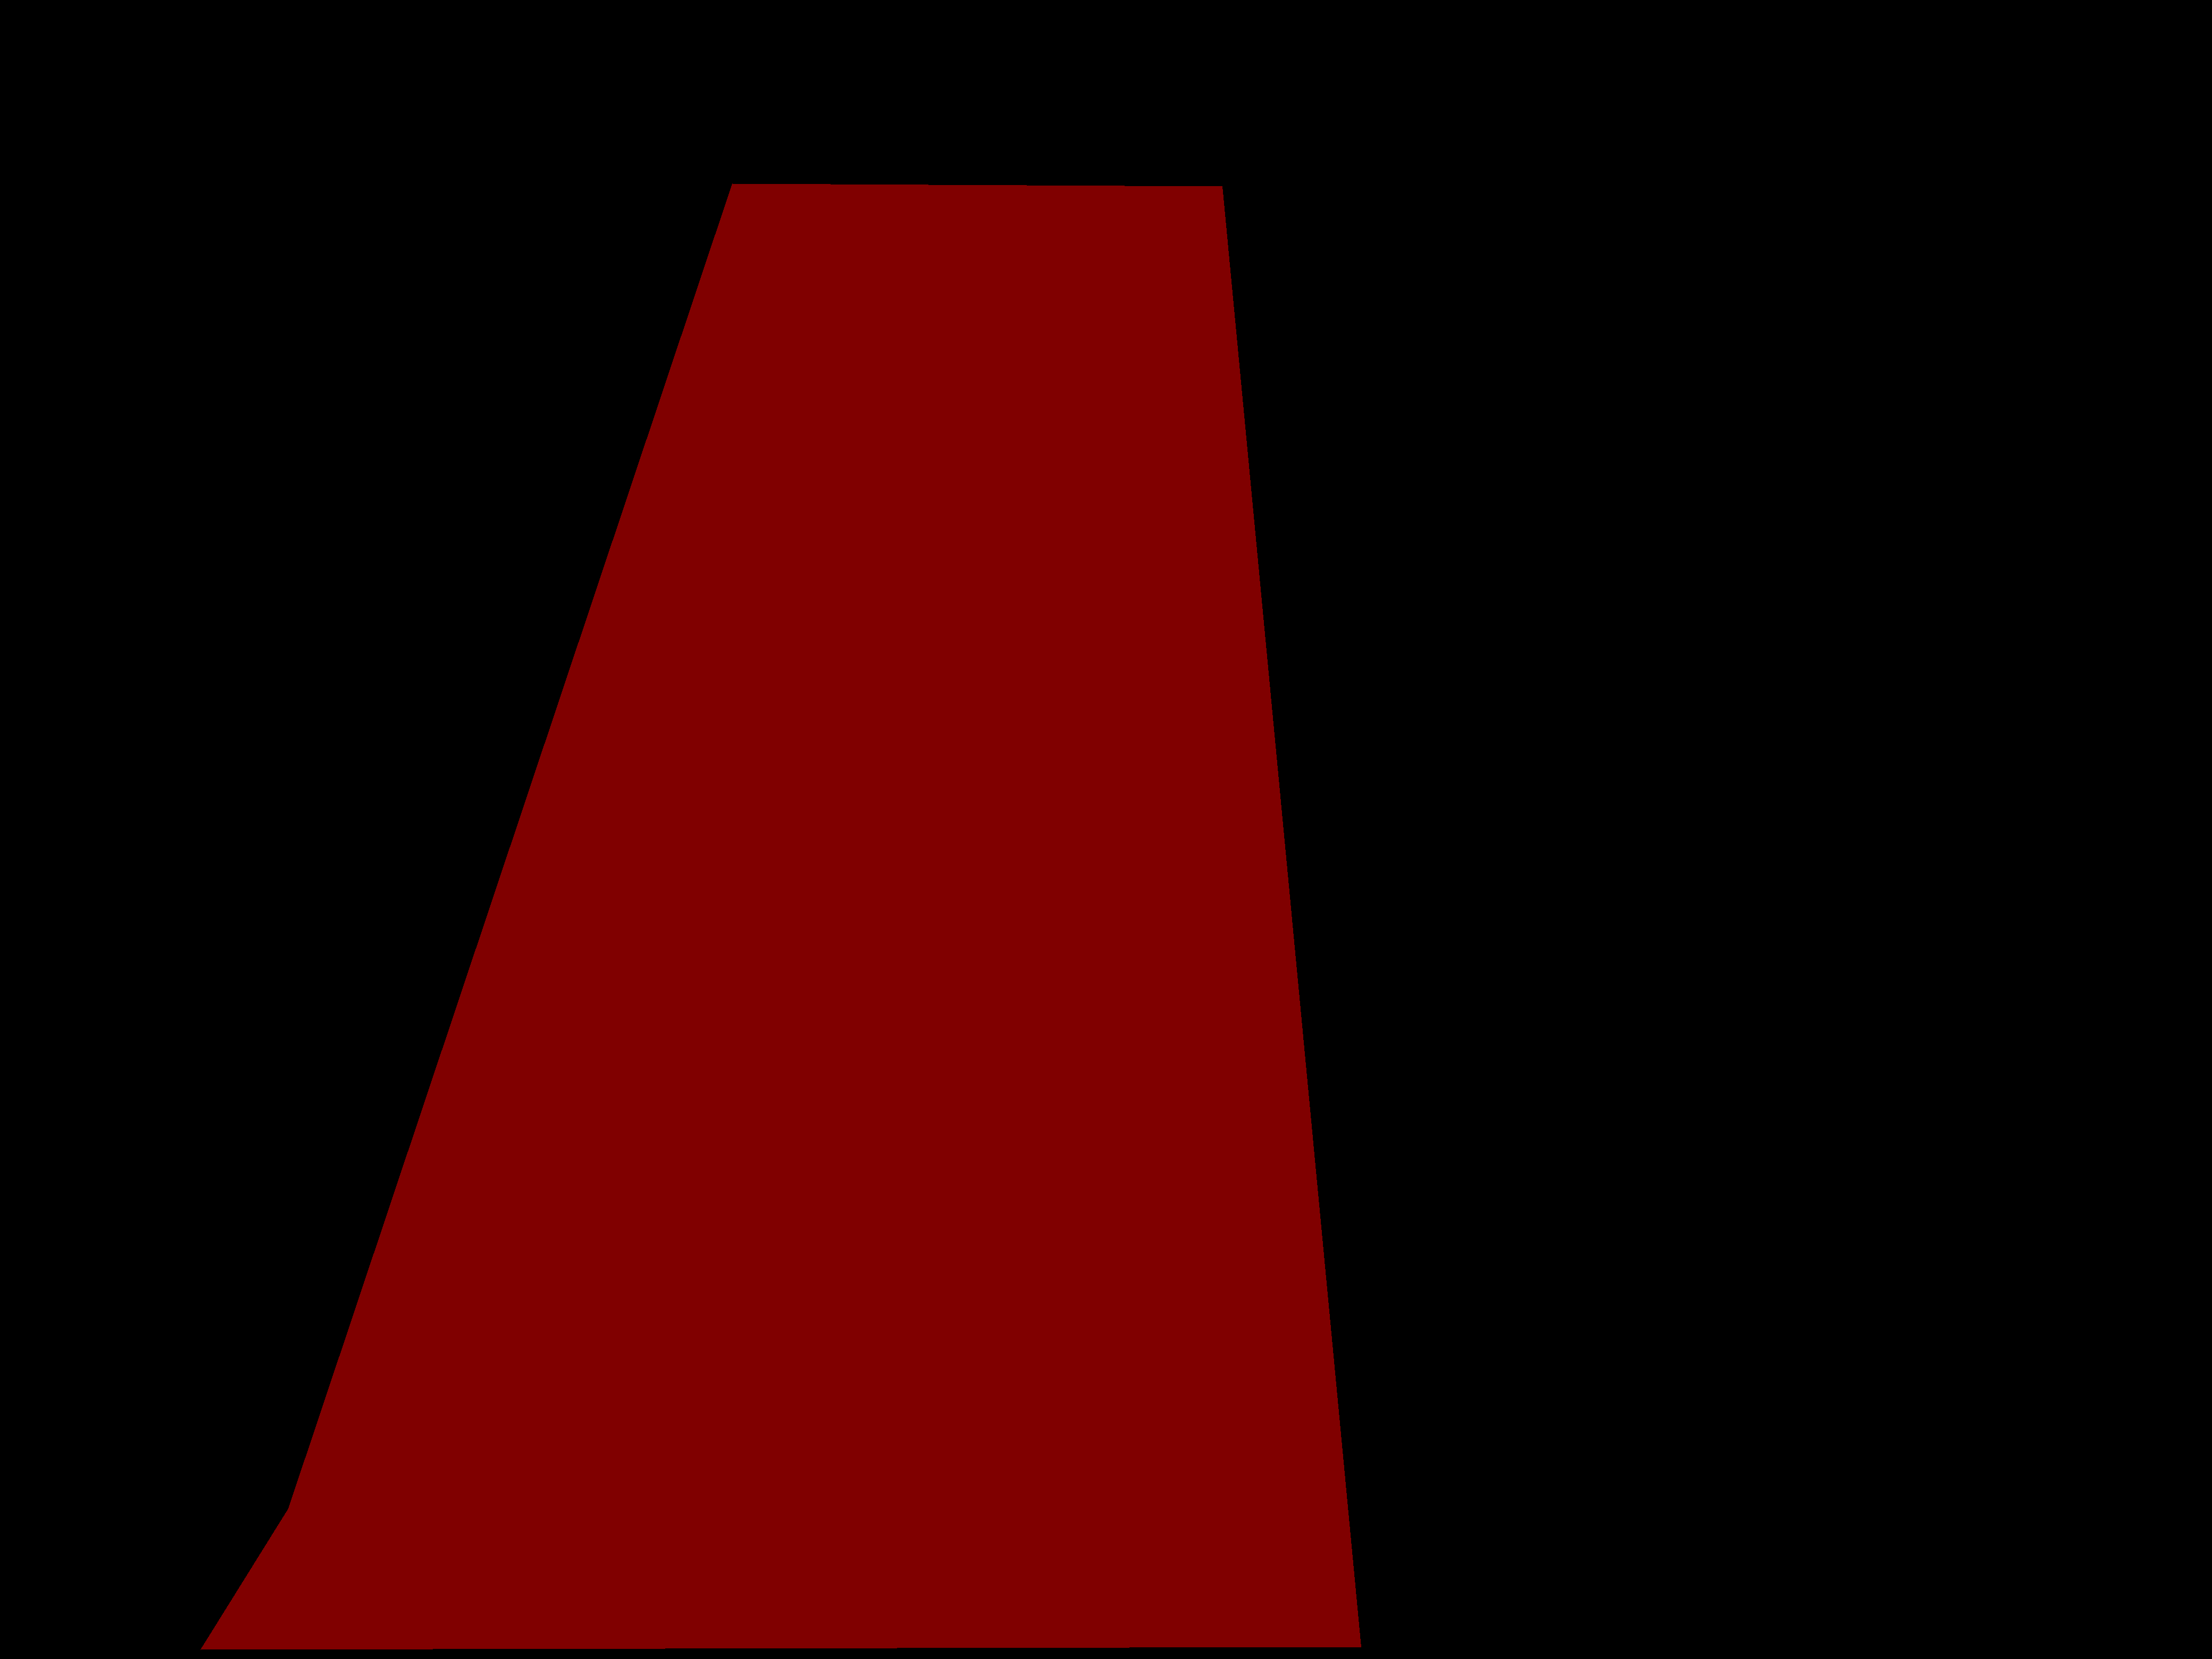stair: (200, 183, 1360, 1650)
